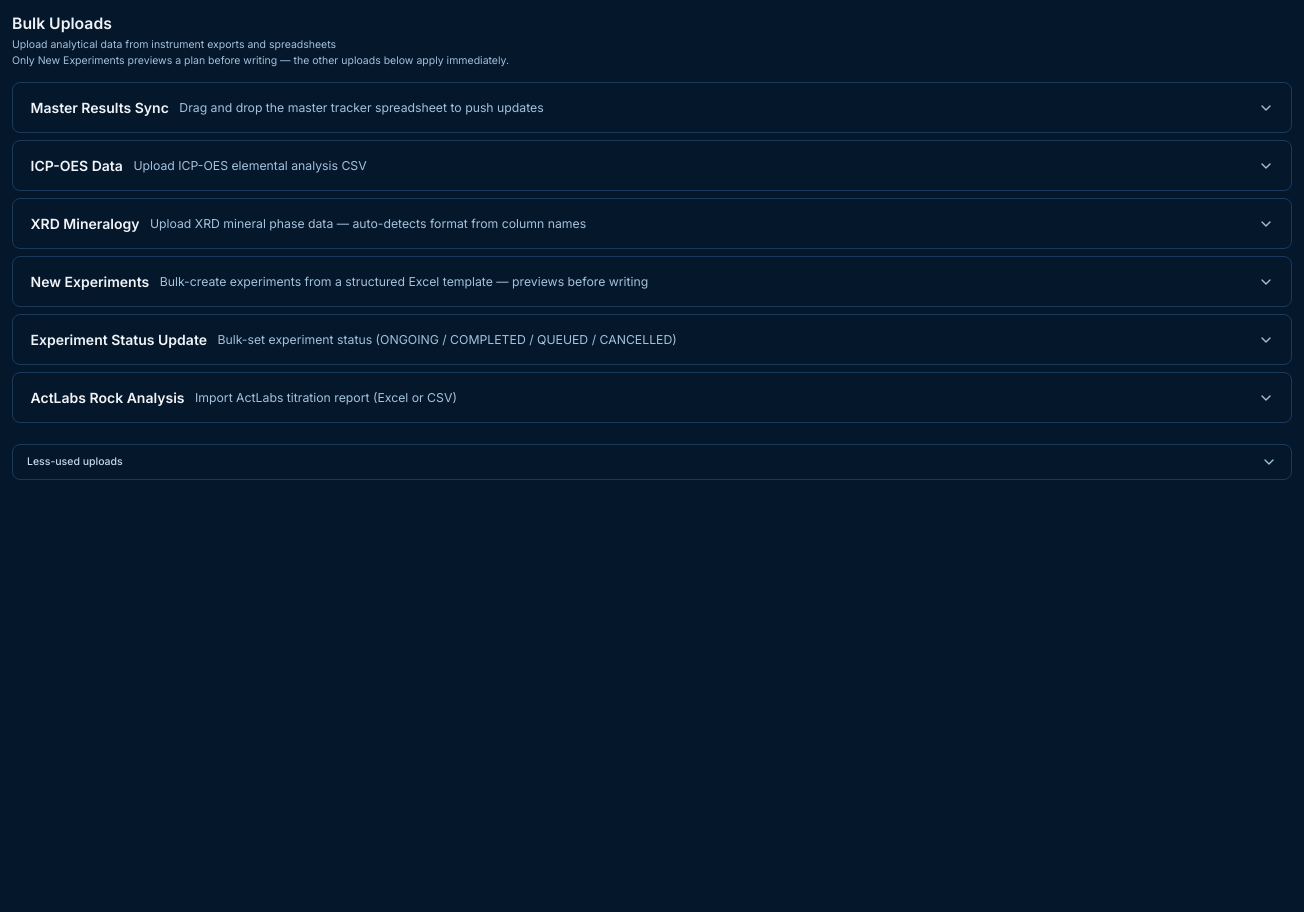
Test: BulkUploadsPage — layout (issue #74) › hides demoted widgets until the less-used section is expanded
The width and height of the screenshot is (1304, 912).
Check: the text "Solution Chemistry" is not shown
Check: the text "Timepoint Modifications" is not shown
Step 1. Click the button "Less-used uploads" → (75, 461), box [12, 444, 1292, 480]
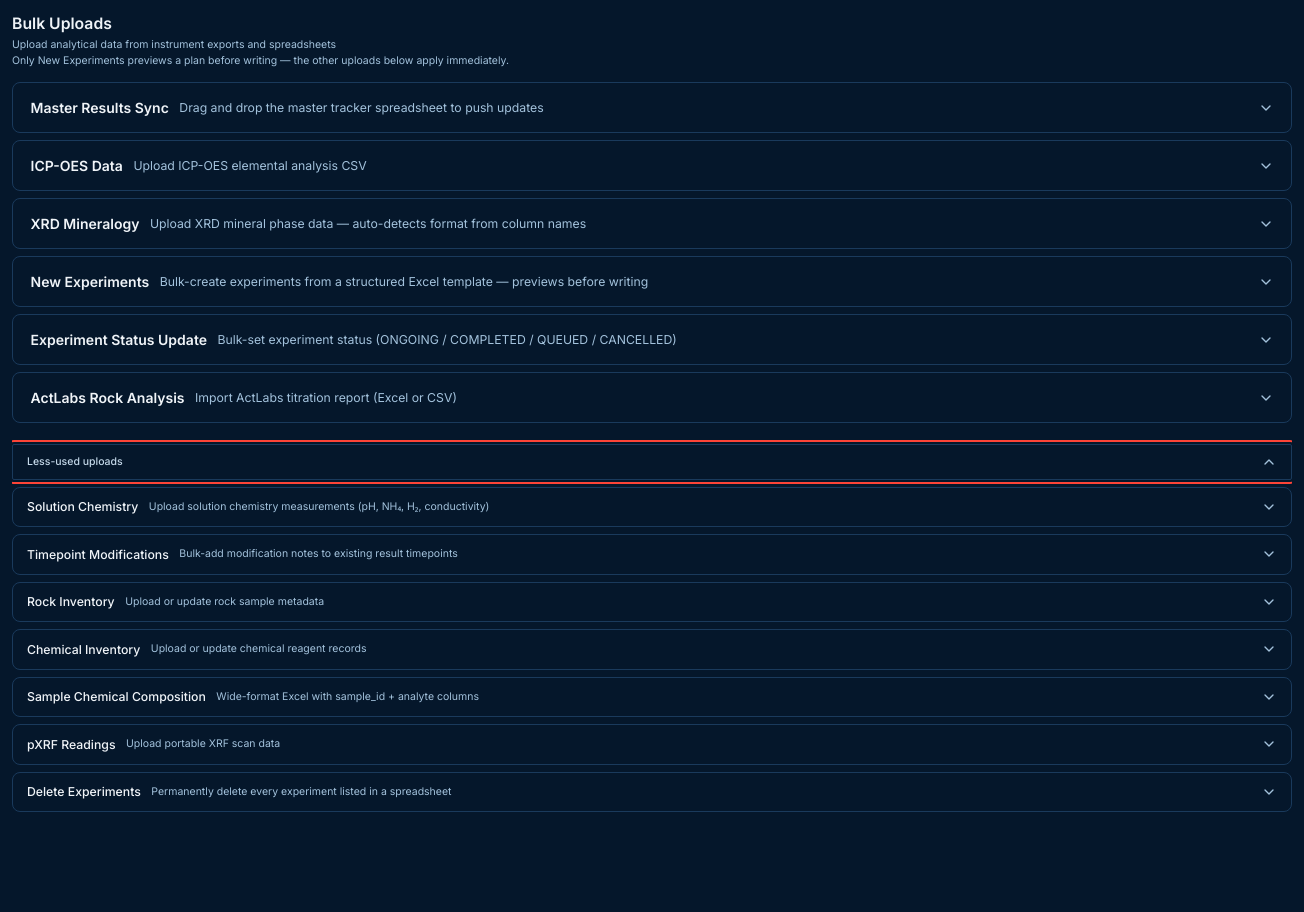
Check: the text "Solution Chemistry" is shown, box [27, 498, 138, 516]
Check: the text "pXRF Readings" is shown, box [27, 736, 116, 753]
